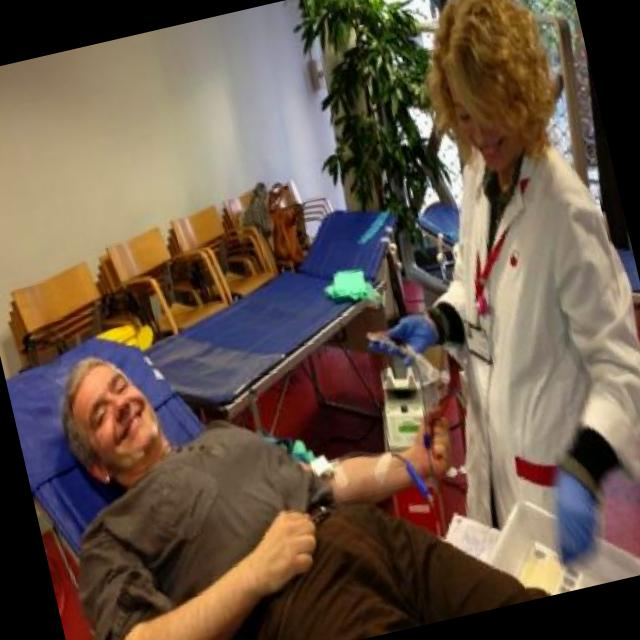Person: (26, 257, 551, 640), (349, 0, 640, 601)
